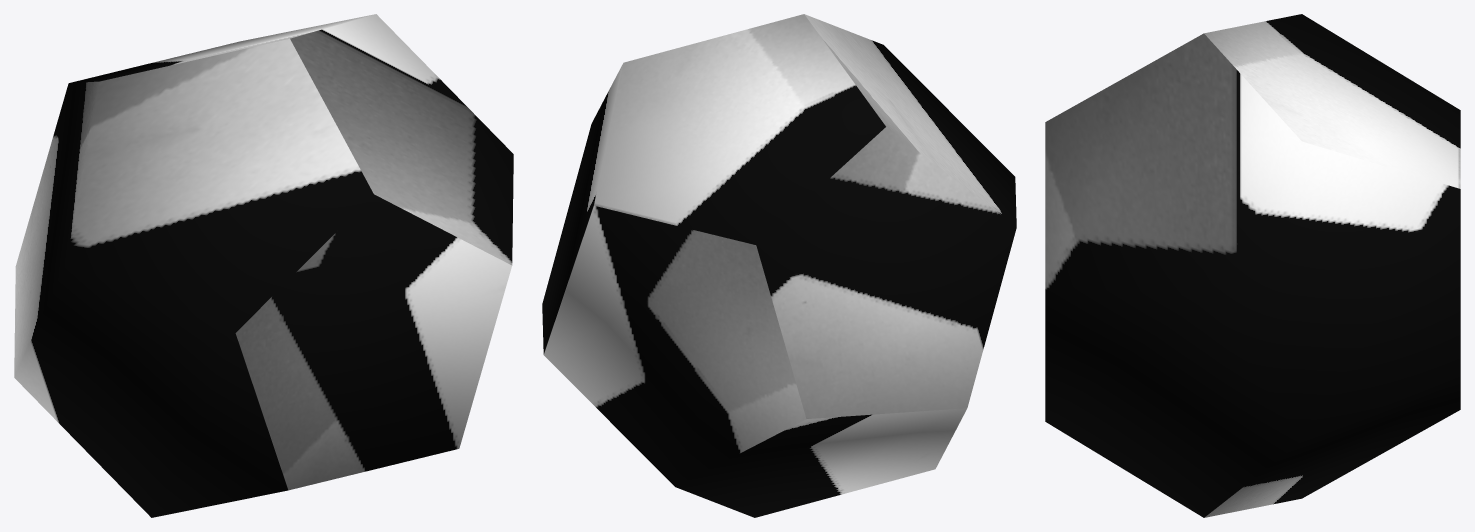
The model's file is ambient_working?.obj.
The picture shows the model from 3 angles, left to right: view 1: azimuth 30°, elevation 25°; view 2: azimuth 150°, elevation 25°; view 3: azimuth 270°, elevation 25°; orthographic projection. The views are drawn at different scales.
Visible parts, largest first — view 1: object_1; view 2: object_1; view 3: object_1.
Boxes of the visible parts, <box> form: object_1: <box>14,14,513,517</box>; object_1: <box>542,14,1016,517</box>; object_1: <box>1045,14,1460,517</box>.
Bounding box in the file's own units: 9.18 × 9.65 × 7.81.
